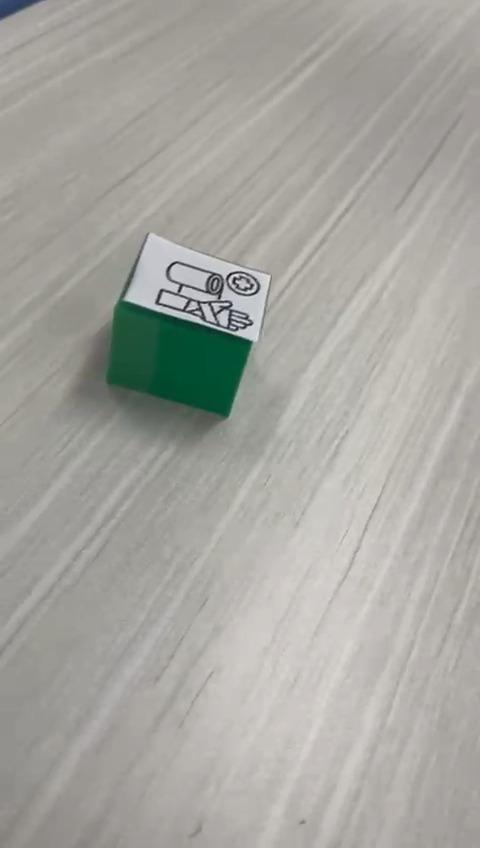Bandages: (106, 231, 272, 419)
